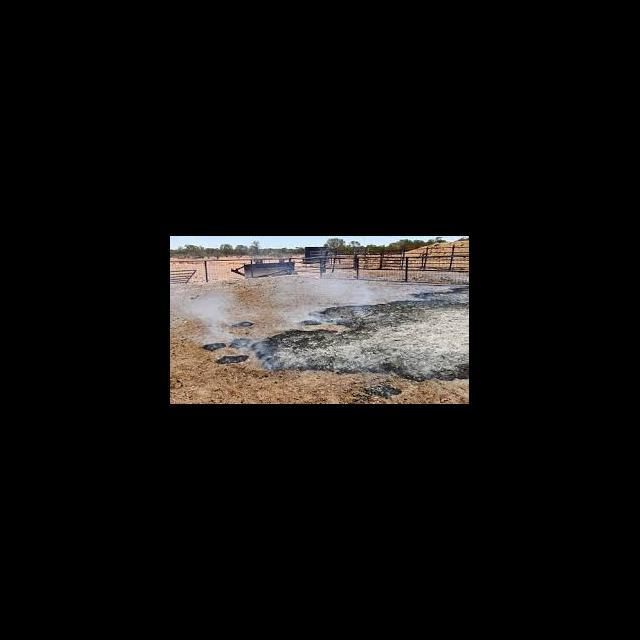Smoke: (170, 273, 270, 369), (278, 267, 368, 324)
